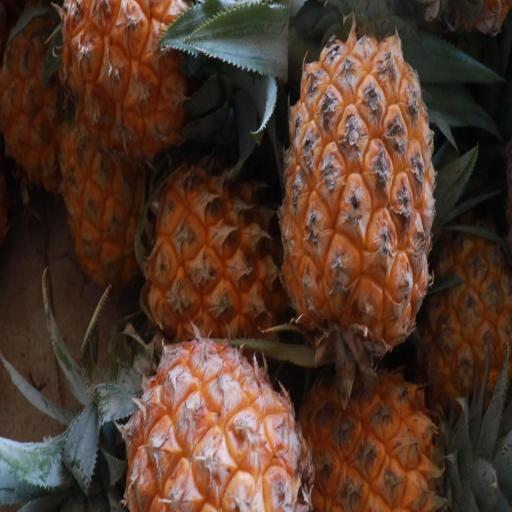Pineapple - v8 v1: (278, 16, 441, 380), (101, 327, 318, 512), (53, 0, 253, 187), (140, 144, 296, 362), (290, 350, 461, 511), (407, 189, 512, 413)
